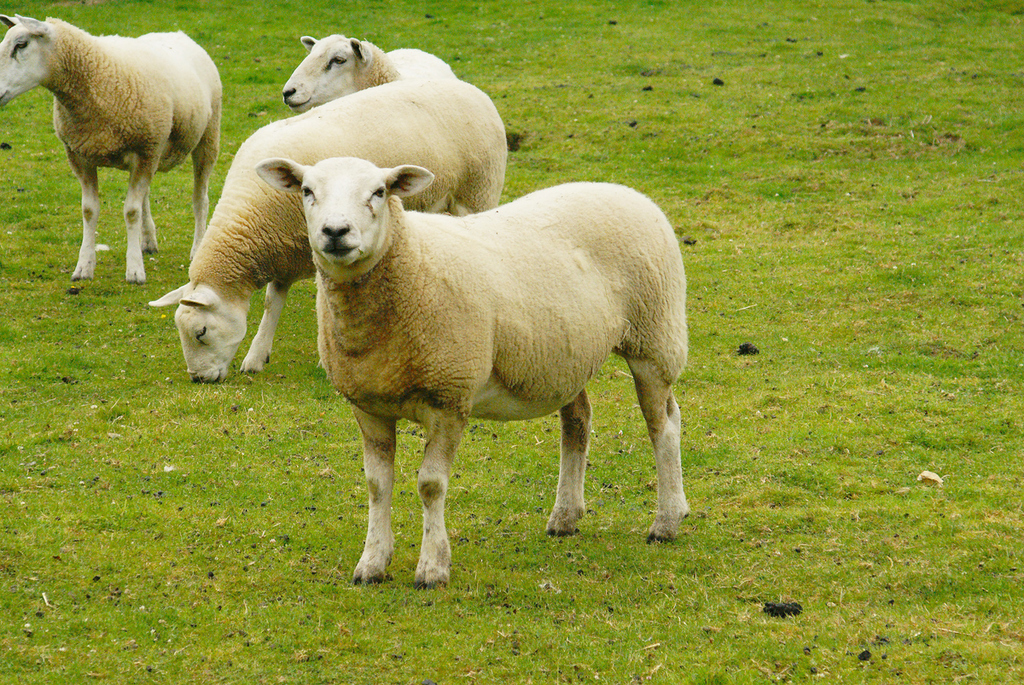sheep: (255, 163, 691, 586)
